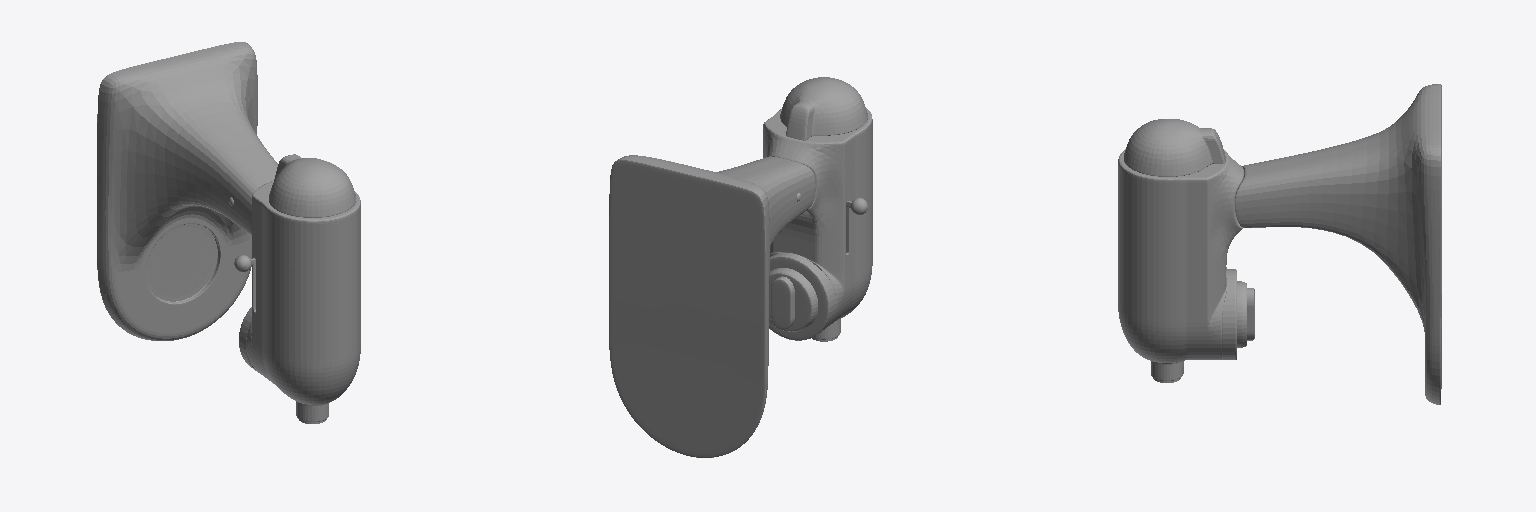
File: StandMixer_machine.obj
3 renders of one model, left to right at view 1: azimuth 30°, elevation 25°; view 2: azimuth 150°, elevation 25°; view 3: azimuth 270°, elevation 25°, orthographic.
Visible parts, largest first — view 1: Mixer; view 2: Mixer; view 3: Mixer.
Boxes of the visible parts, x1,y1,x2,y2 form: Mixer: [97, 42, 360, 423]; Mixer: [609, 77, 872, 457]; Mixer: [1118, 84, 1441, 404].
Size of the model in its own units: 20.07 by 34.5 by 35.81.